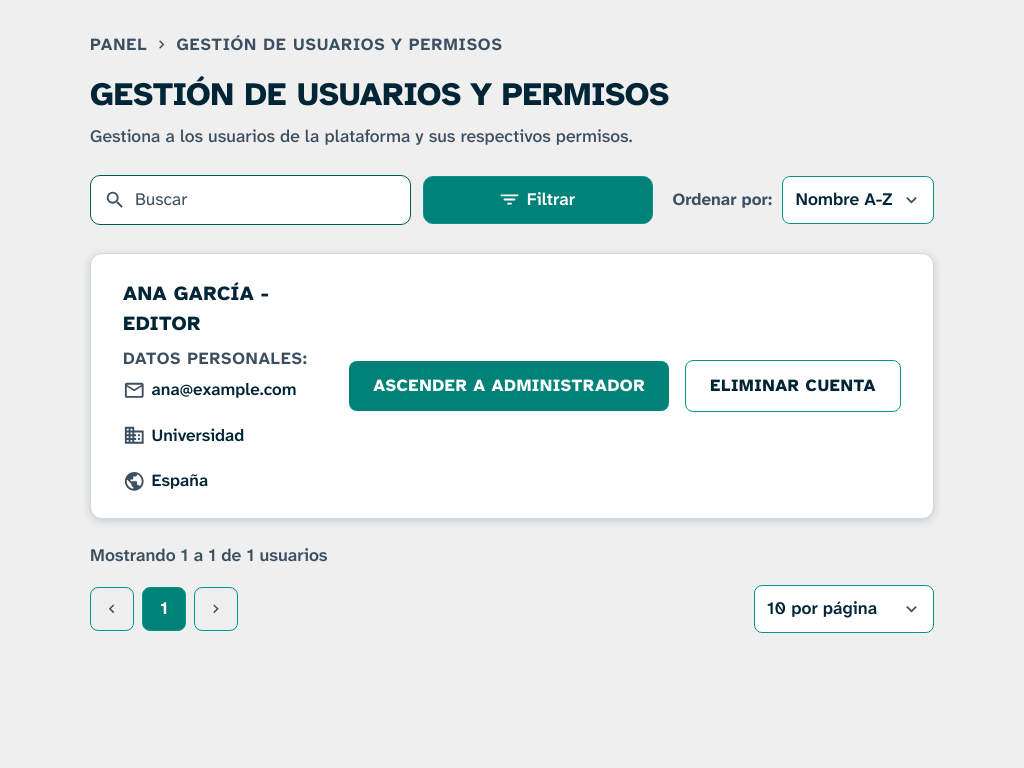
Test: UsersManagementPage › elimina una cuenta después de confirmar
Step 1. Click the button "ELIMINAR CUENTA" → (793, 386), box [685, 360, 901, 412]
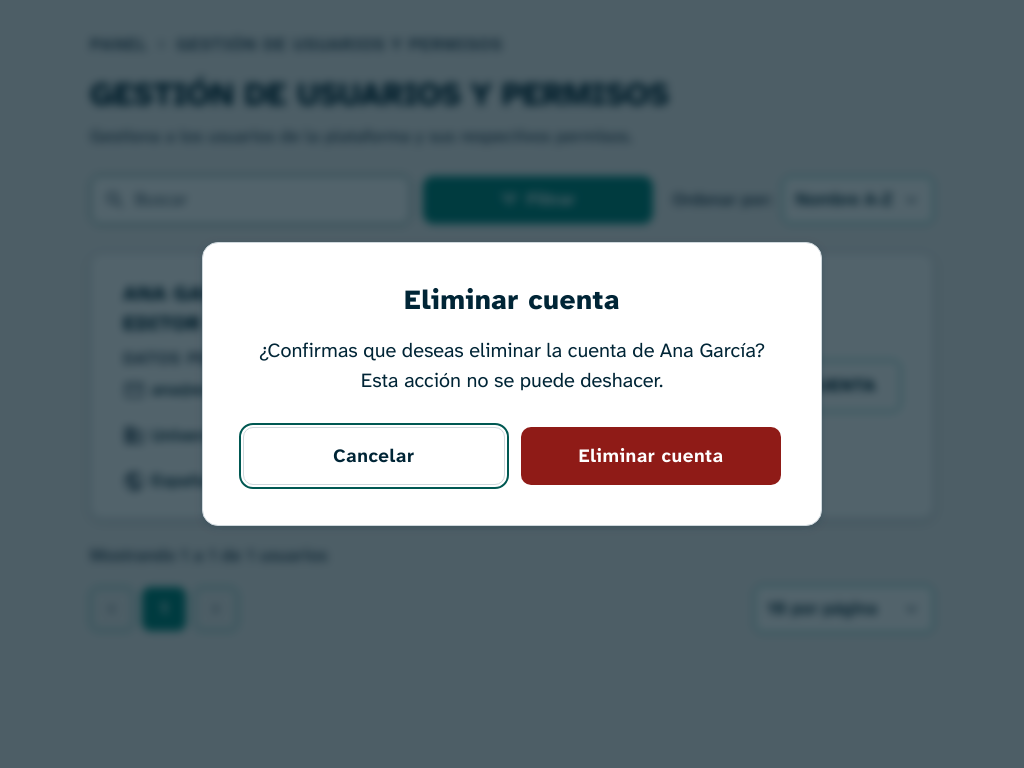
Step 2. Click the button "Eliminar cuenta" → (651, 456), box [521, 427, 781, 485]
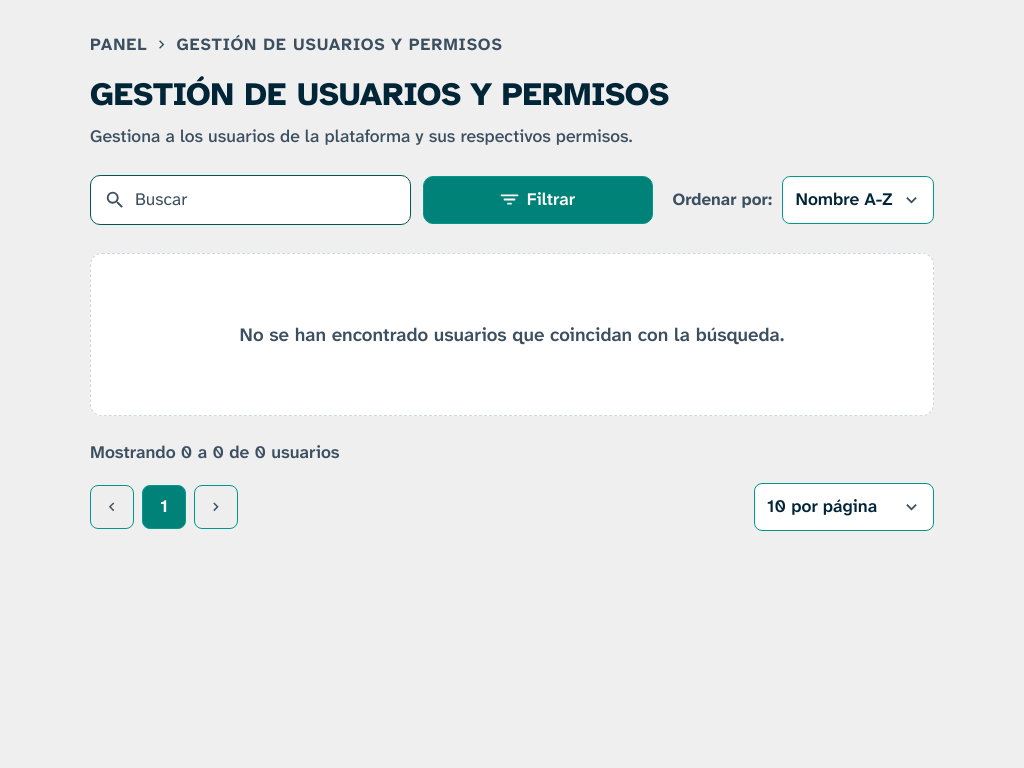
Result: the text "No se han encontrado usuarios que coincidan con la búsqueda." is shown at [240, 322, 784, 346]
